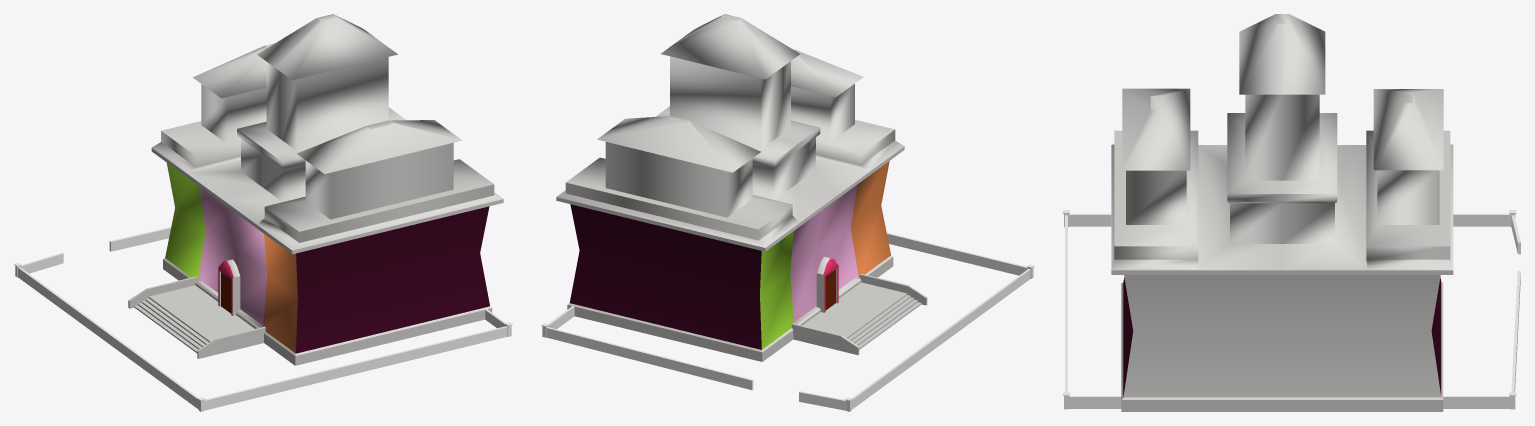
File: HellLibrary.fbx
The picture shows the model from 3 angles, left to right: view 1: azimuth 30°, elevation 25°; view 2: azimuth 150°, elevation 25°; view 3: azimuth 270°, elevation 25°; orthographic projection. The views are drawn at different scales.
Visible parts, largest first — view 1: Building, Wall, Stairs, Stair wall, Door; view 2: Building, Wall, Stairs, Stair wall, Door; view 3: Building, Wall.
Part boxes in pixels (bbox=[...]): Building: bbox=[151, 14, 503, 365]; Wall: bbox=[14, 227, 512, 411]; Stairs: bbox=[134, 285, 254, 353]; Stair wall: bbox=[128, 276, 265, 358]; Door: bbox=[218, 259, 240, 315]; Building: bbox=[556, 14, 904, 361]; Wall: bbox=[541, 232, 1034, 411]; Stairs: bbox=[802, 282, 921, 349]; Stair wall: bbox=[791, 273, 927, 354]; Door: bbox=[816, 257, 838, 312]; Building: bbox=[1111, 14, 1453, 411]; Wall: bbox=[1063, 210, 1520, 409].
Size of what is drawn, in the model's own units: 4506 by 3670 by 4551.
